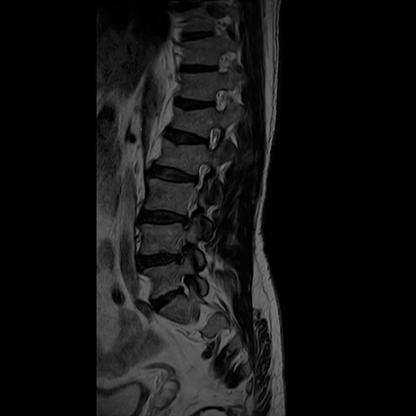Annular Disc Relaxationrotation: (149, 165, 197, 188), (163, 127, 207, 150)
Disc Bulgerotation: (137, 250, 182, 275), (150, 288, 189, 310)
